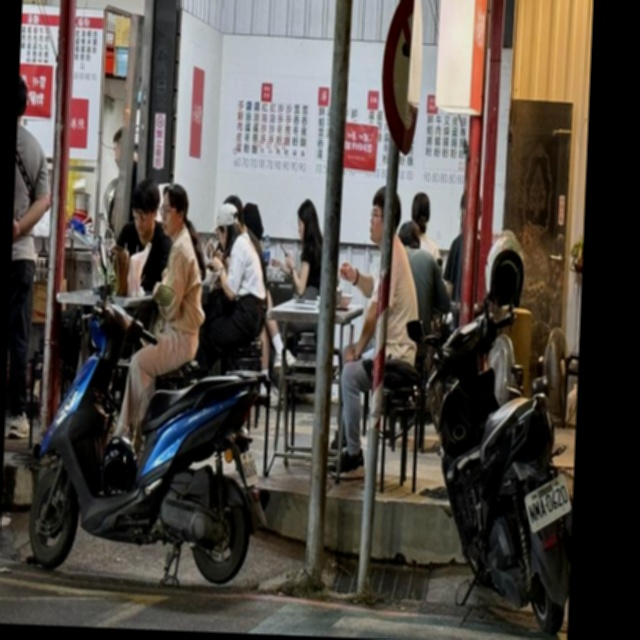Sin_Casco_Mascarrilla: (131, 178, 160, 235), (161, 185, 190, 235), (210, 203, 239, 251), (295, 198, 318, 241), (412, 191, 432, 234)
Sin_Chaleco: (163, 237, 205, 337)
